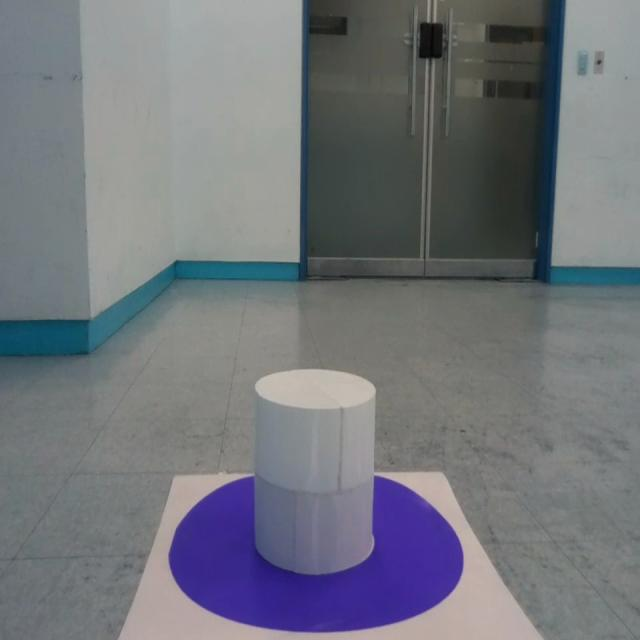cylinder: (250, 369, 376, 575)
